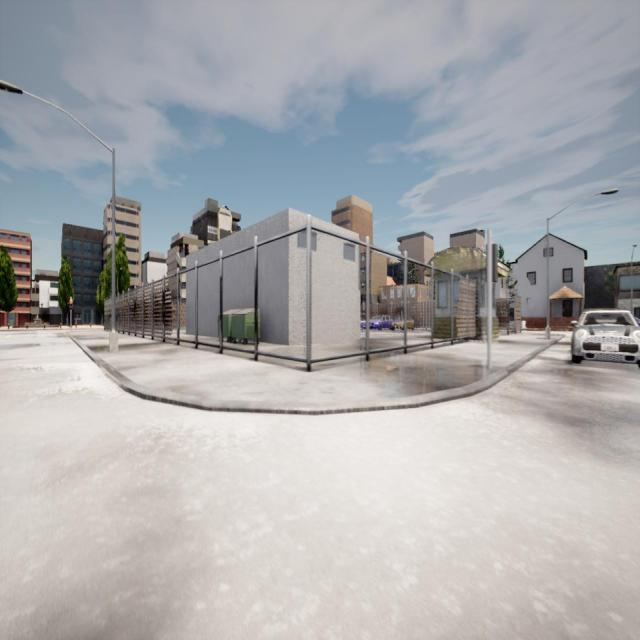Vehicle: (572, 309, 640, 366), (362, 315, 393, 330), (392, 316, 415, 330)
traffic_light: (494, 244, 499, 284), (69, 300, 73, 312)
